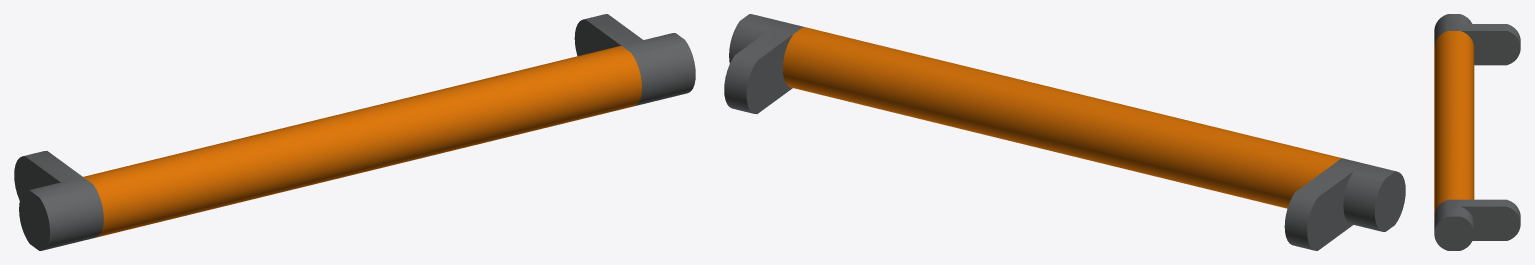
3 renders of one model, left to right at view 1: azimuth 30°, elevation 25°; view 2: azimuth 150°, elevation 25°; view 3: azimuth 270°, elevation 25°, orthographic. The views are drawn at different scales.
Visible parts, largest first — view 1: f3_LOD0, f3_col; view 2: f3_LOD0, f3_col; view 3: f3_LOD0, f3_col.
Part boxes in pixels (x1,y1,x2,y2): f3_LOD0: [14, 14, 695, 250]; f3_col: [14, 14, 681, 250]; f3_LOD0: [724, 14, 1405, 250]; f3_col: [737, 14, 1404, 247]; f3_LOD0: [1434, 14, 1520, 250]; f3_col: [1435, 14, 1520, 250].
Size of what is drawn, in the model's own units: 144 by 11.93 by 26.
